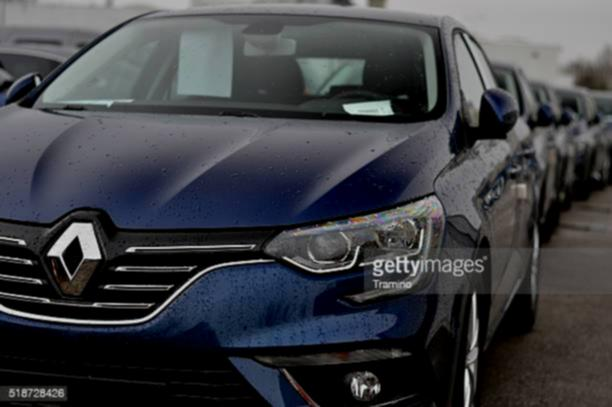Renault: (35, 208, 118, 309)
